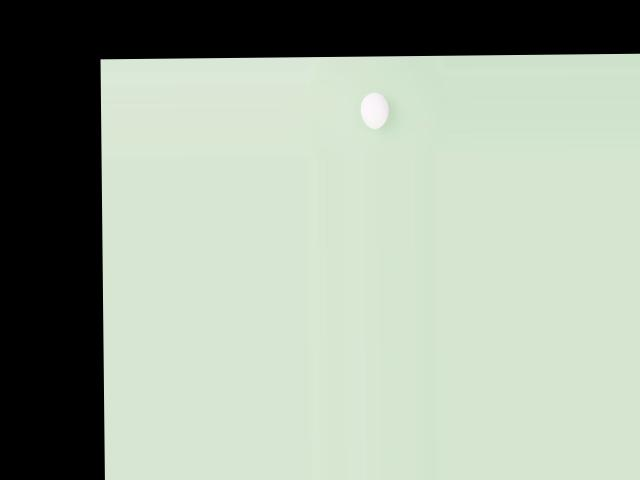egg: (360, 91, 388, 129)
